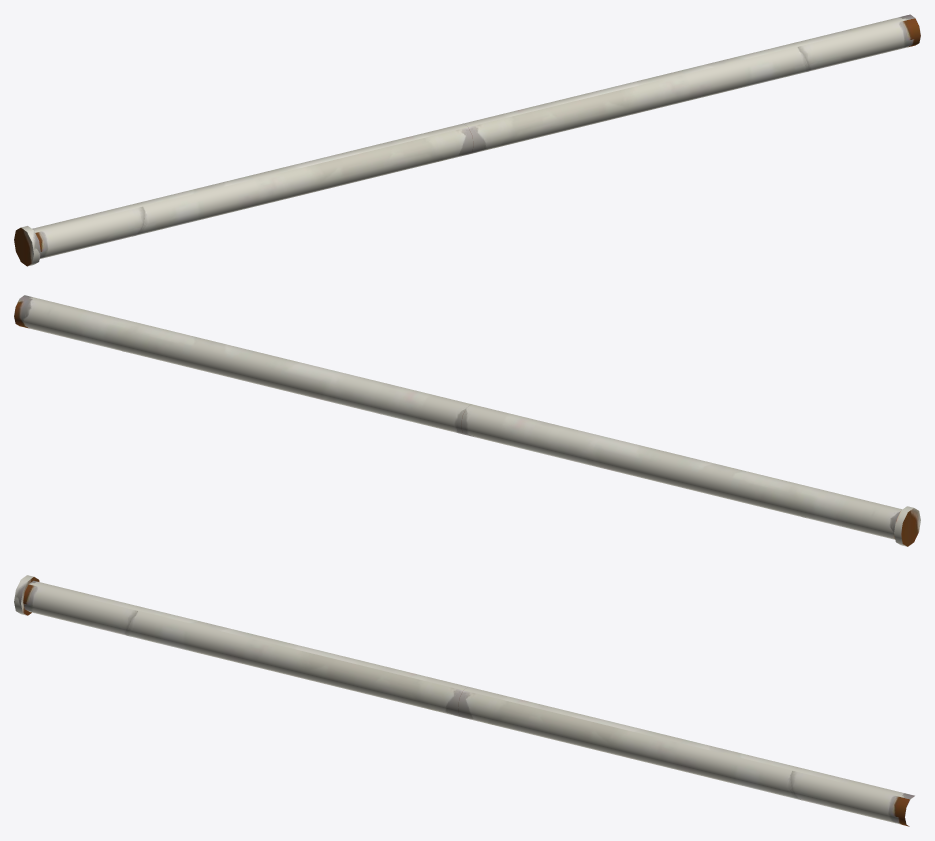
3 views of the same model, one above another, from view 1: azimuth 30°, elevation 25°; view 2: azimuth 150°, elevation 25°; view 3: azimuth 330°, elevation 25° (orthographic).
Parts seen in each view (by area): view 1: body0_model0_lod0_mesh0; view 2: body0_model0_lod0_mesh0; view 3: body0_model0_lod0_mesh0.
Part boxes in pixels (x1=…): body0_model0_lod0_mesh0: x1=14, y1=14, x2=920, y2=266; body0_model0_lod0_mesh0: x1=14, y1=295, x2=920, y2=546; body0_model0_lod0_mesh0: x1=14, y1=575, x2=914, y2=826.
Bounding box in the file's own units: 256 × 9.5 × 10.
Materials: 1 (1 with a texture image).
